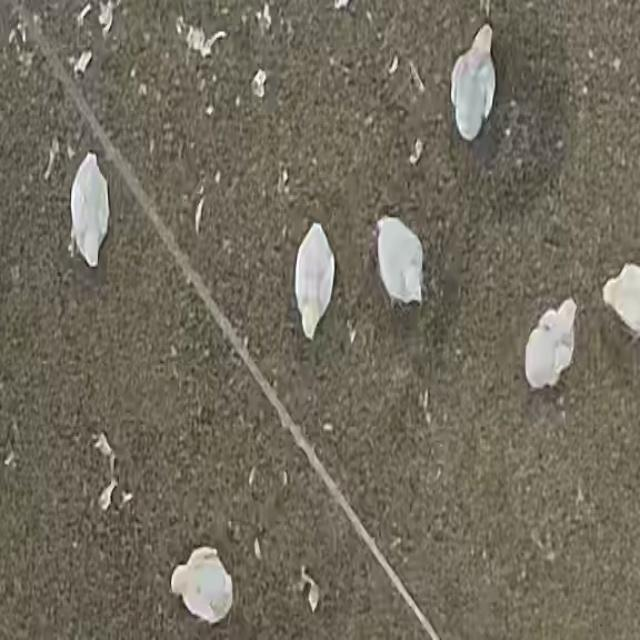chicken: (290, 216, 342, 344), (448, 22, 498, 146), (166, 542, 238, 628), (67, 151, 115, 270), (372, 211, 429, 308), (522, 298, 580, 392)
